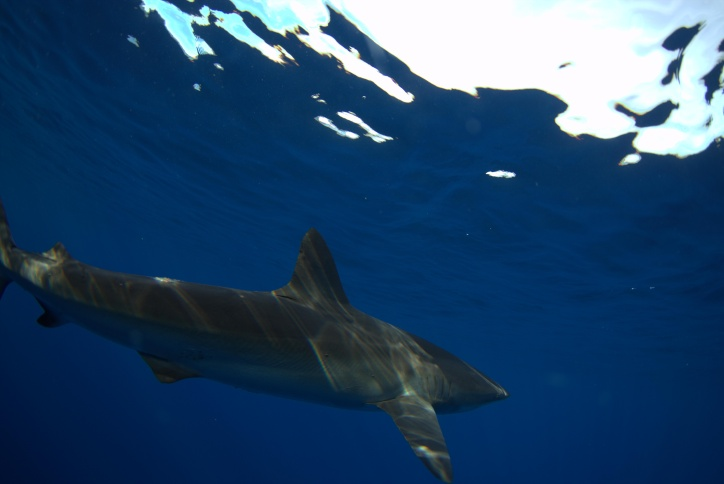Sedoso: (1, 192, 523, 481)
